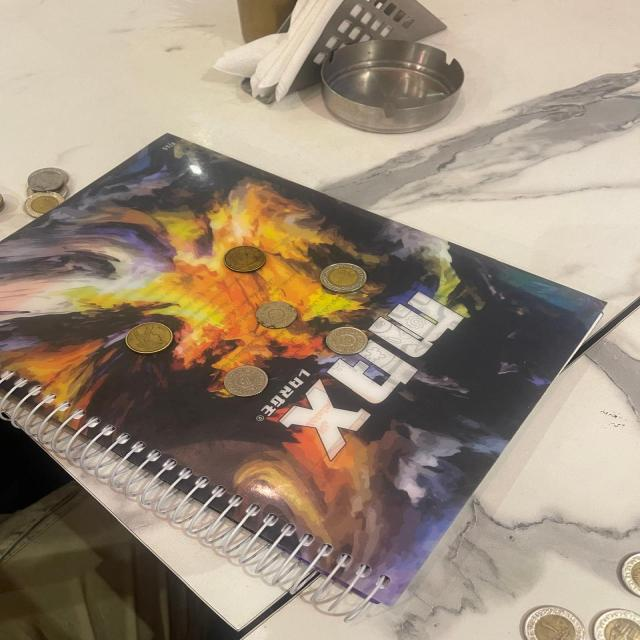Half Pound: (121, 318, 177, 357), (221, 243, 267, 276)
One Pound: (314, 260, 372, 295), (23, 190, 67, 218)
quarter pound: (220, 362, 275, 400), (324, 324, 371, 356), (254, 299, 300, 331), (28, 168, 66, 192)
